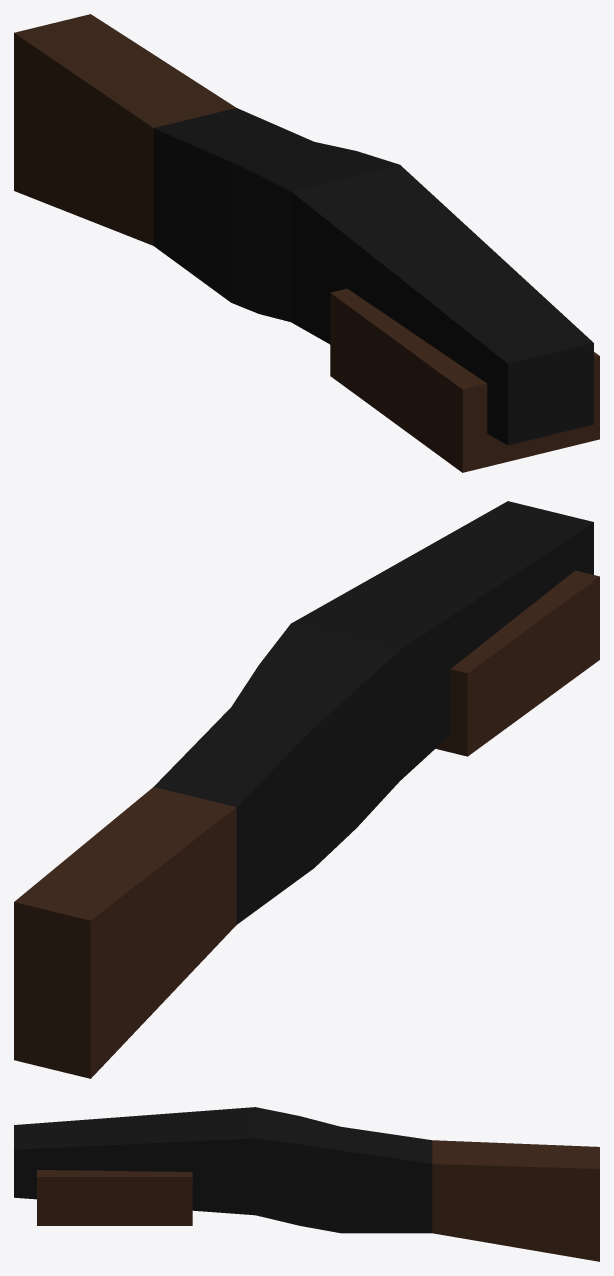
File: Test Shotgun.fbx
The picture shows the model from 3 angles, top to bottom: view 1: azimuth 30°, elevation 25°; view 2: azimuth 150°, elevation 25°; view 3: azimuth 270°, elevation 25°; orthographic projection. The views are drawn at different scales.
Visible parts, largest first — view 1: Gun, Pump; view 2: Gun, Pump; view 3: Gun, Pump.
Boxes of the visible parts, x1,y1,x2,y2 form: Gun: (14, 14, 593, 445); Pump: (330, 288, 599, 472); Gun: (14, 501, 593, 1078); Pump: (435, 570, 599, 756); Gun: (14, 1107, 599, 1261); Pump: (37, 1170, 192, 1225).
Bounding box in the file's own units: 25.93 × 163 × 39.31.
